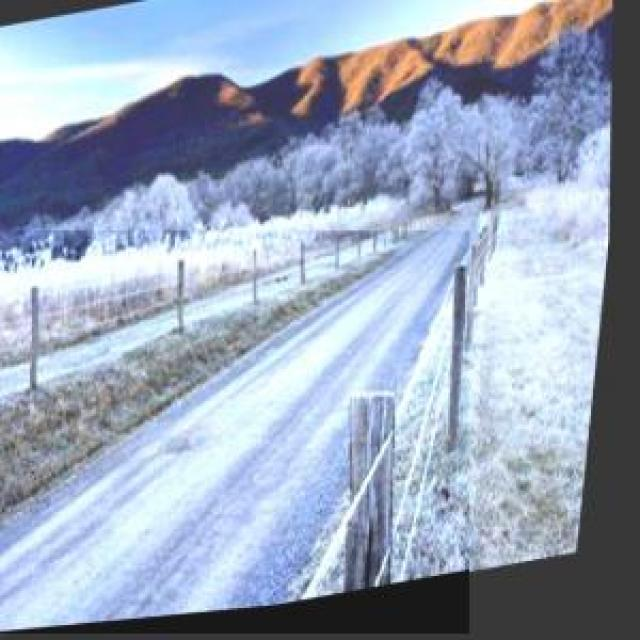ice-road: (0, 232, 469, 634)
